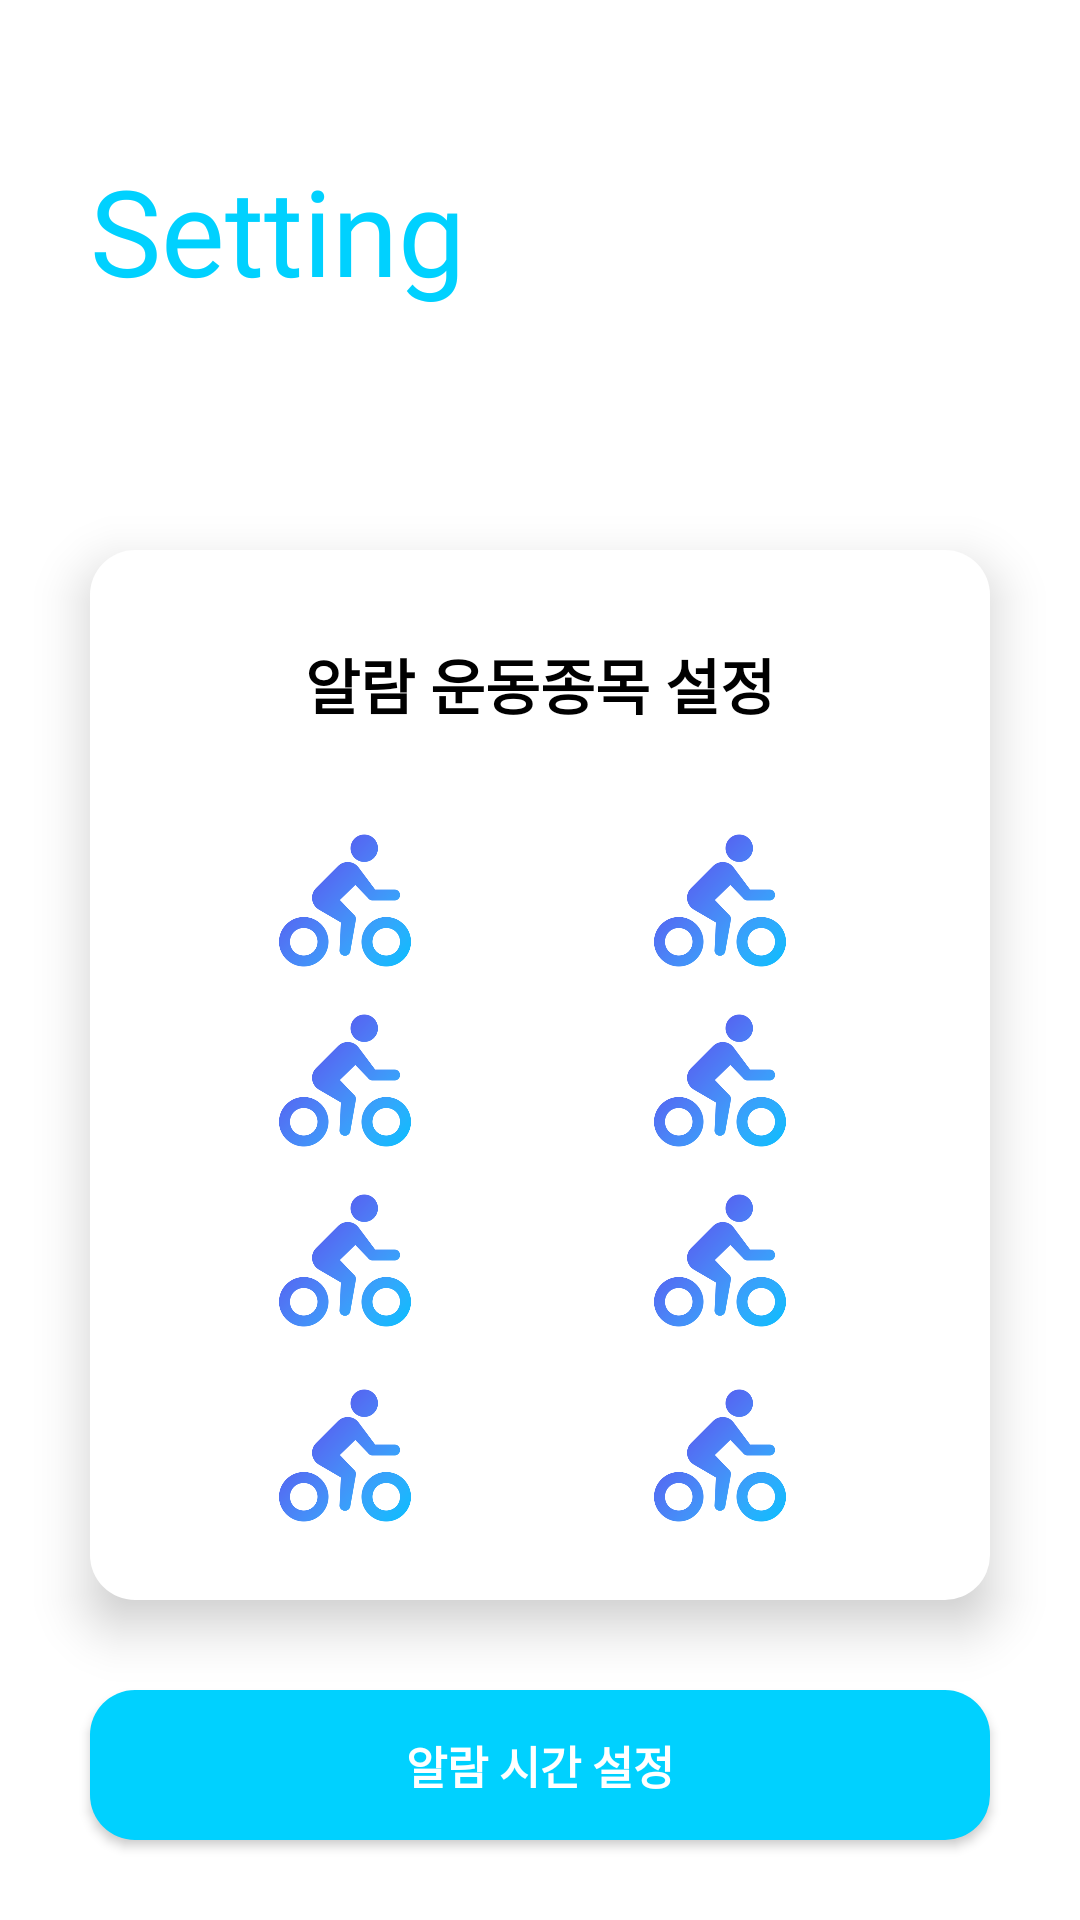

Point at icon controls on the screen. Image size 1080w x 1920h, points as point (x, y).
cycle: point (345, 900), point (720, 900), point (345, 1080), point (720, 1080), point (345, 1260), point (720, 1260), point (345, 1455), point (720, 1455)
